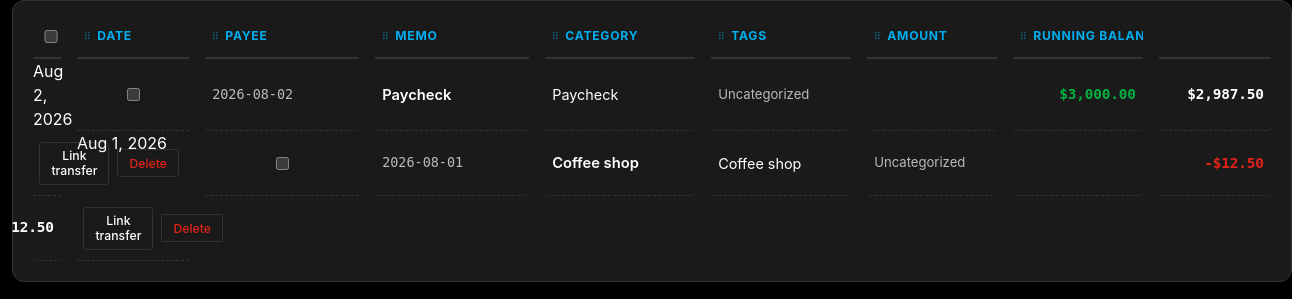
Scenario: TransactionsGrid inline editing › clicking the memo cell opens an inline text input pre-filled with the current value, no modal
This screenshot has width=1292, height=299.
What coordinates should you click on to do the following:
click the 2nd text "Coffee shop"
I would click on:
 (781, 164)
Its box is [711, 131, 851, 196].
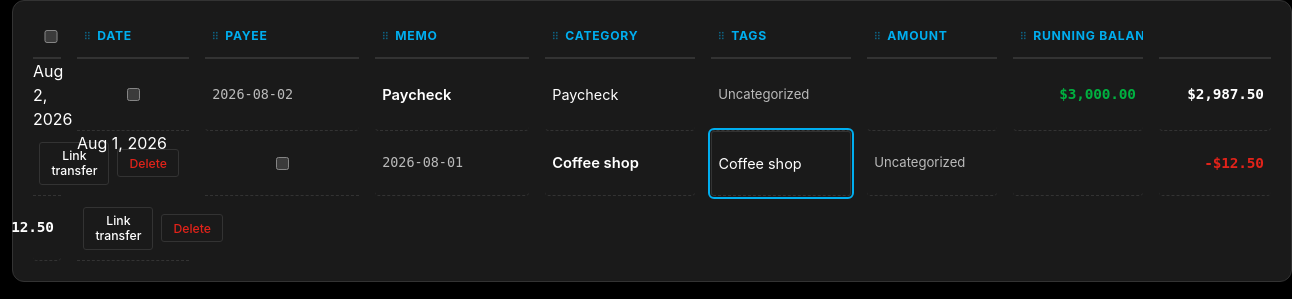
Expected: the field named "Memo for Coffee shop" holds "Coffee shop", [711, 131, 851, 196]
